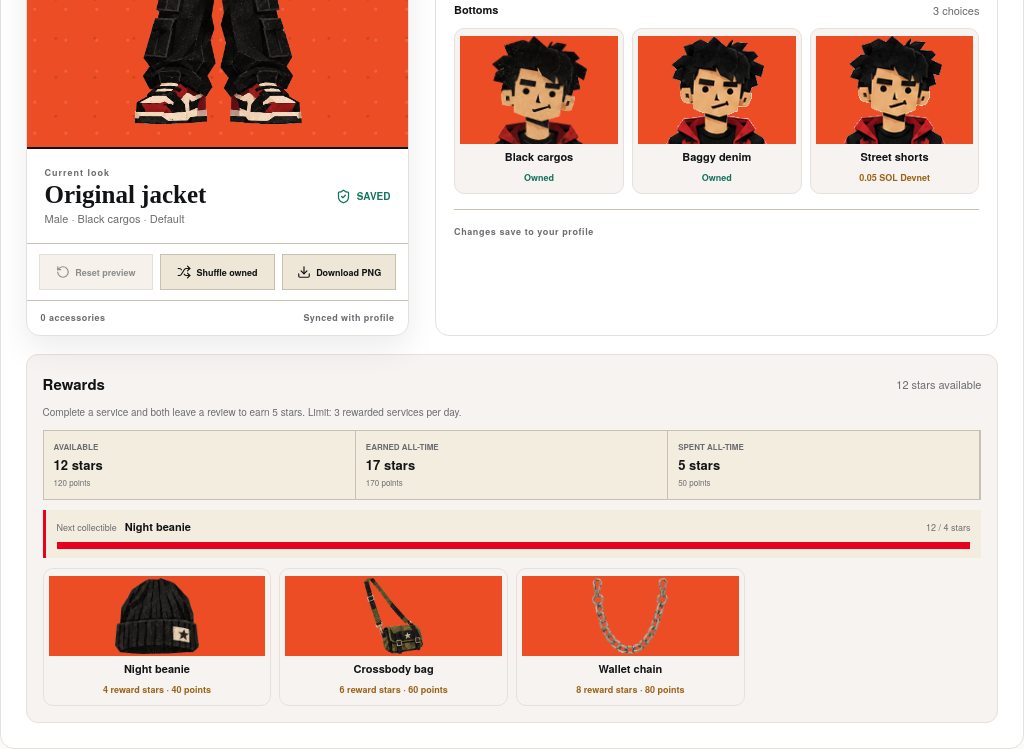
Laura avatar marketplace with backend boundaries › explains the complete reward contract and unlocks with the server price
This screenshot has width=1024, height=749.
(page scrolled)
Check: the text "Limit: 3 rewarded services per day" is shown, box [43, 405, 462, 419]
Click the button with aria-label "Night beanie, 4 reward stars · 40 points". click: (157, 637)
box: [43, 568, 271, 706]
(page scrolled)
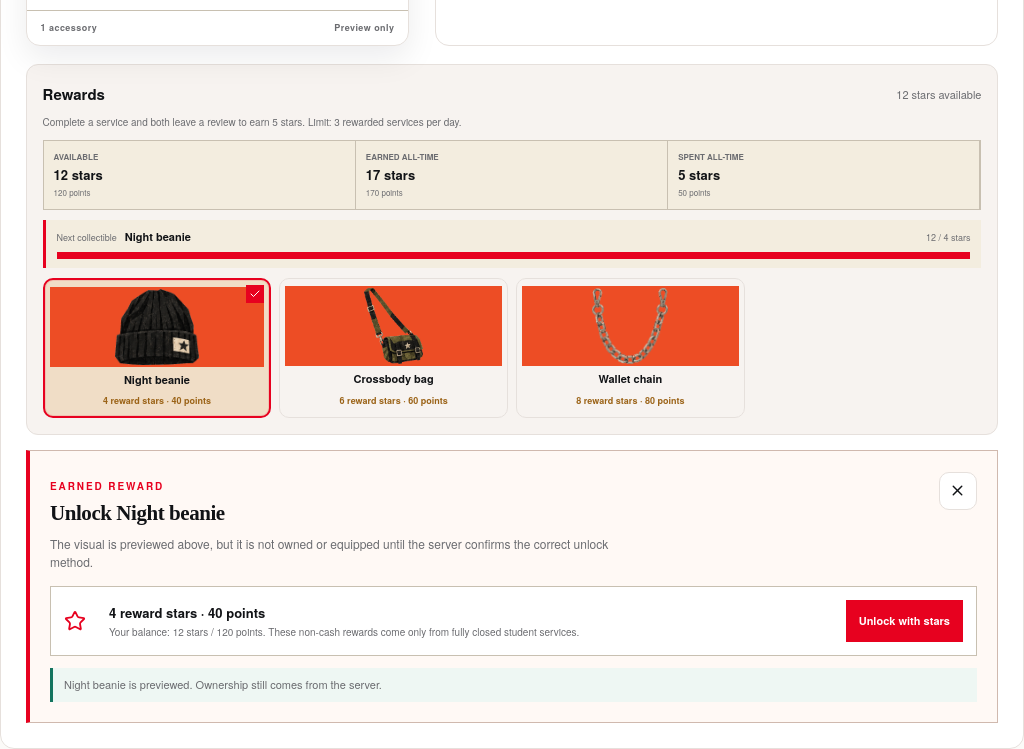
Click the button "Unlock with stars". click: (904, 621)
box: [846, 600, 963, 642]
(page scrolled)
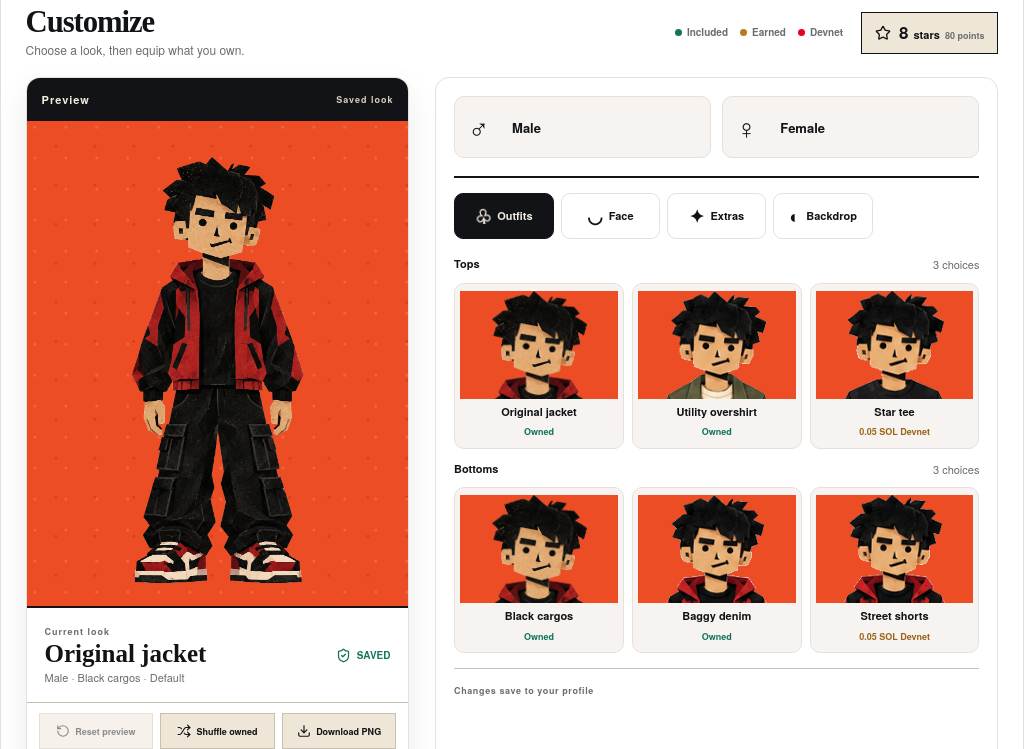
Check: the element named "80 HitMeUp points" reads "8 stars 80 points", box [861, 12, 998, 54]
